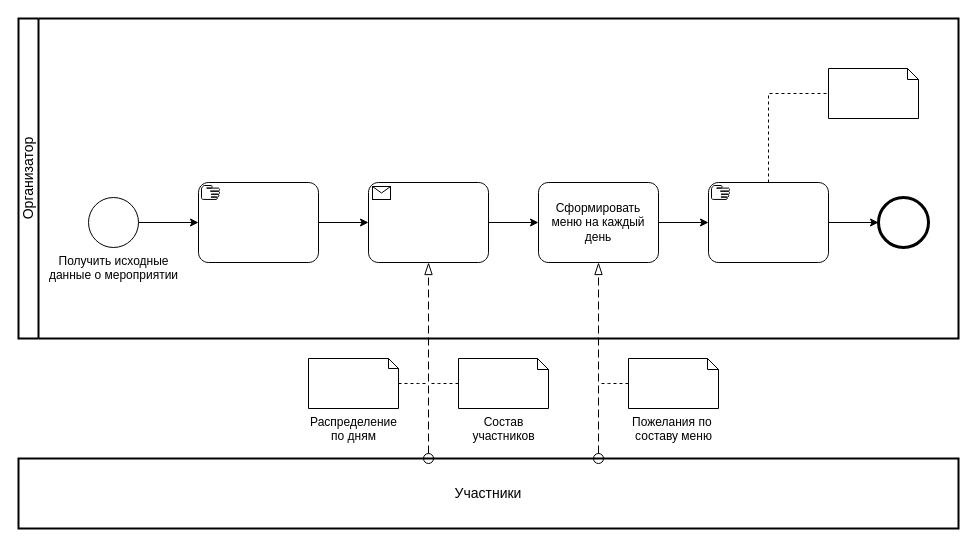
Some shapes in this 976 by 546 pixel diagram are drawn without their labels. The centre of each missing label's shape, as x and y in pixels:
Исходные данные о мероприятии: pixel 873 93
Определить дату мероприятия, место проведения и количество дней: pixel 258 222
Получить информацию об участниках: pixel 428 222
Структурировать информацию о мероприятии: pixel 768 222
